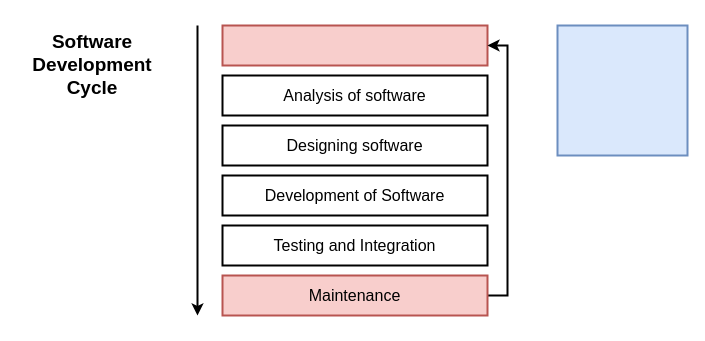
Image size: 705x341. Some labels were removed from this diagram. Here are the shapes that lost their labels. From the top down, the box of each, then its label:
(221, 24, 488, 66): Gathering Requirements
(556, 24, 688, 156): Refactoring helps solve most of these issues
